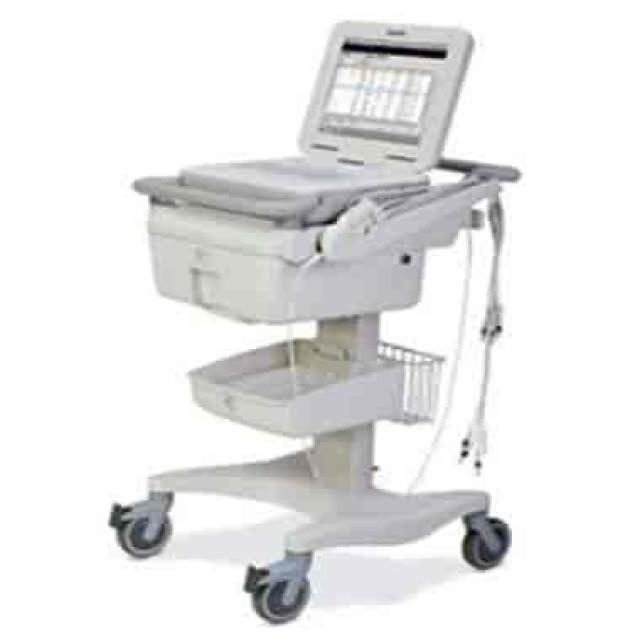Monitor: (106, 17, 522, 624)
